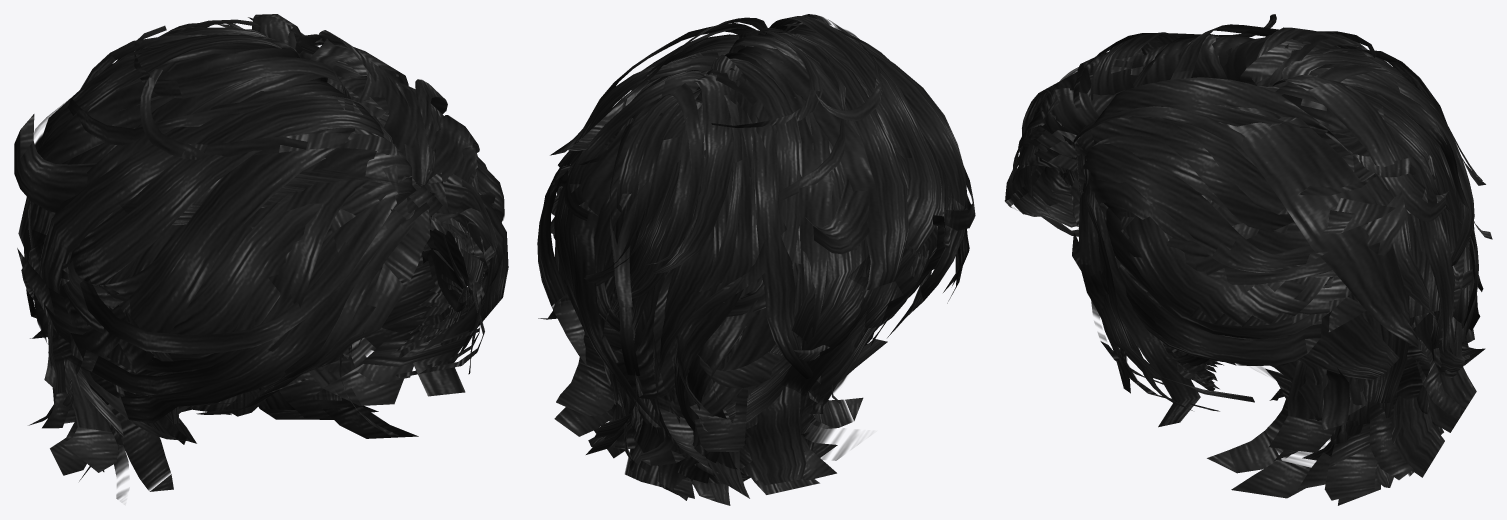
File: Oval_Wavy_01.glb
The picture shows the model from 3 angles, left to right: view 1: azimuth 30°, elevation 25°; view 2: azimuth 150°, elevation 25°; view 3: azimuth 270°, elevation 25°; orthographic projection. The views are drawn at different scales.
Visible parts, largest first — view 1: oval wavy 01 layered waves; view 2: oval wavy 01 layered waves; view 3: oval wavy 01 layered waves.
Boxes of the visible parts, <box> form: oval wavy 01 layered waves: <box>14,14,508,501</box>; oval wavy 01 layered waves: <box>537,14,975,505</box>; oval wavy 01 layered waves: <box>1004,14,1492,505</box>.
Bounding box in the file's own units: 0.2311 × 0.2371 × 0.2529.
Materials: 1 (1 with a texture image).
